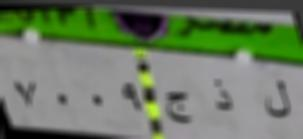0: (90, 87, 107, 111), (54, 88, 72, 110)
7: (10, 73, 38, 110)
9: (119, 79, 142, 116)
jeem: (164, 89, 194, 128)
laam: (261, 74, 293, 125)
zaal: (211, 79, 235, 116)
